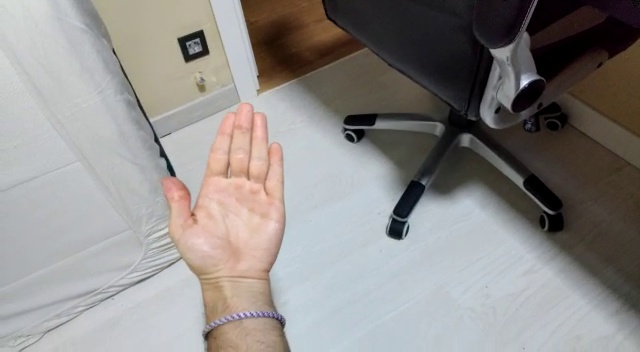Palm: (157, 101, 287, 293)
